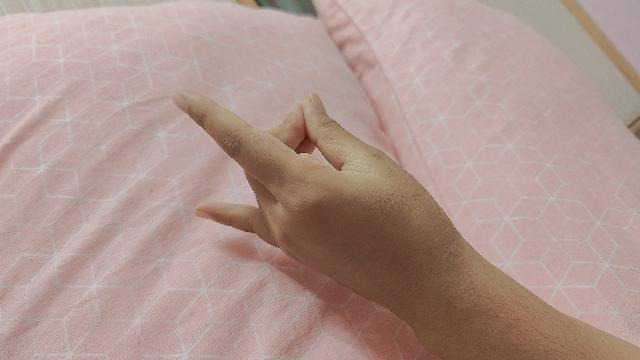sinhamukh: (170, 92, 640, 360)
